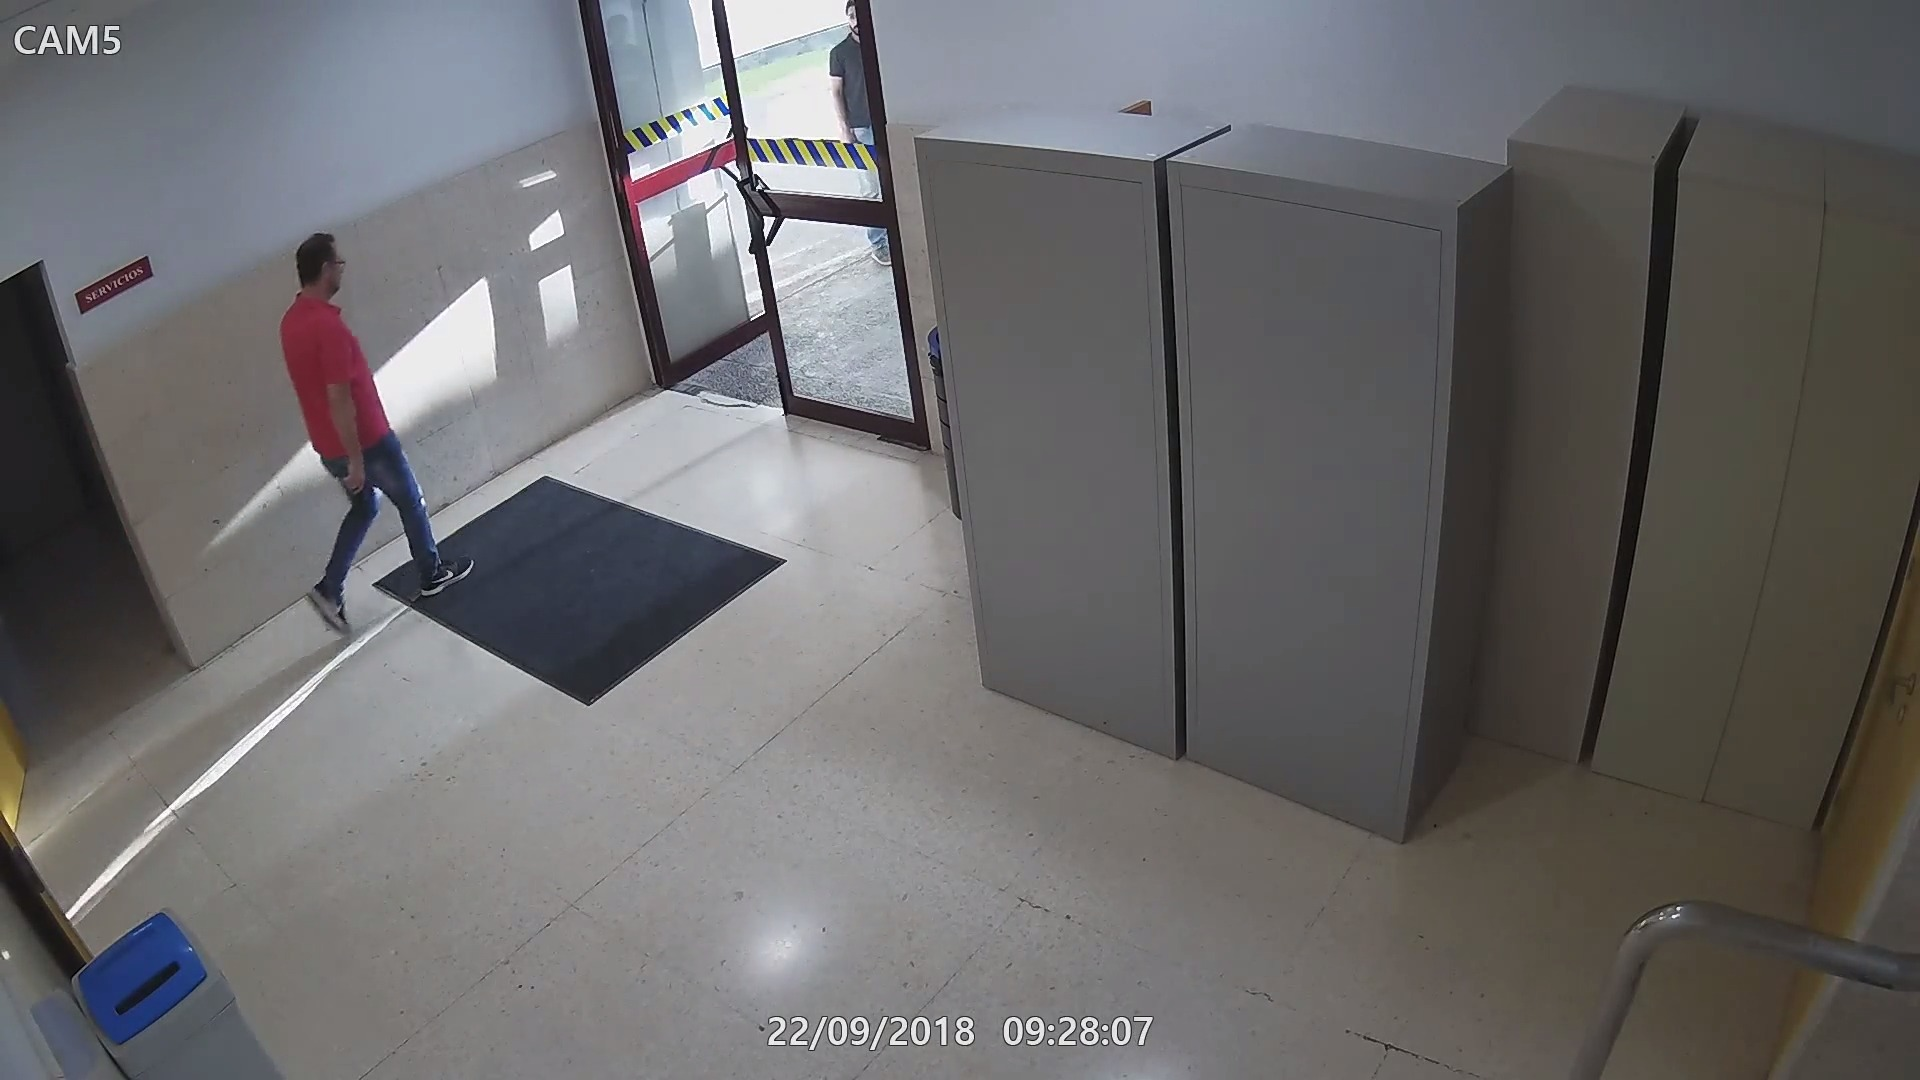Handgun: (334, 454, 378, 518)
